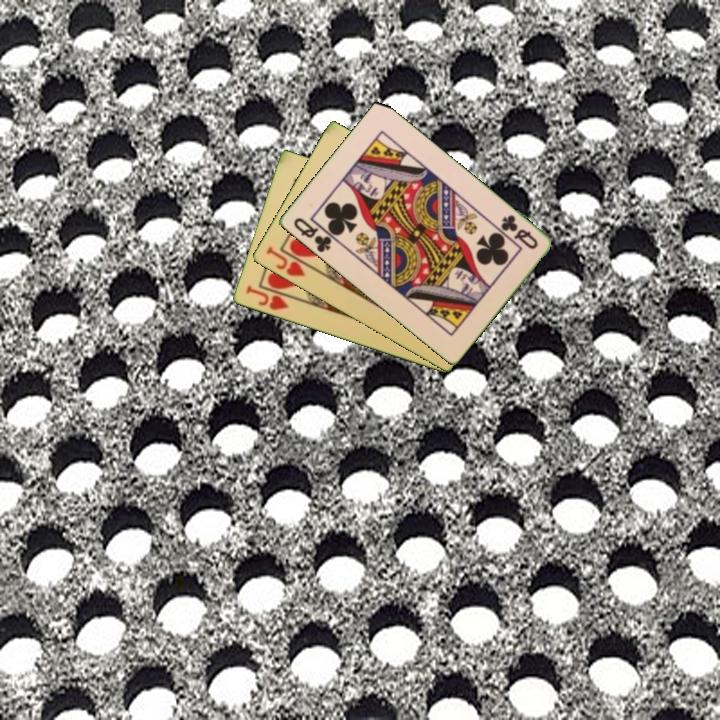Jh: (242, 282, 297, 313), (262, 243, 308, 280)
Qc: (290, 214, 340, 256), (497, 211, 540, 252)
